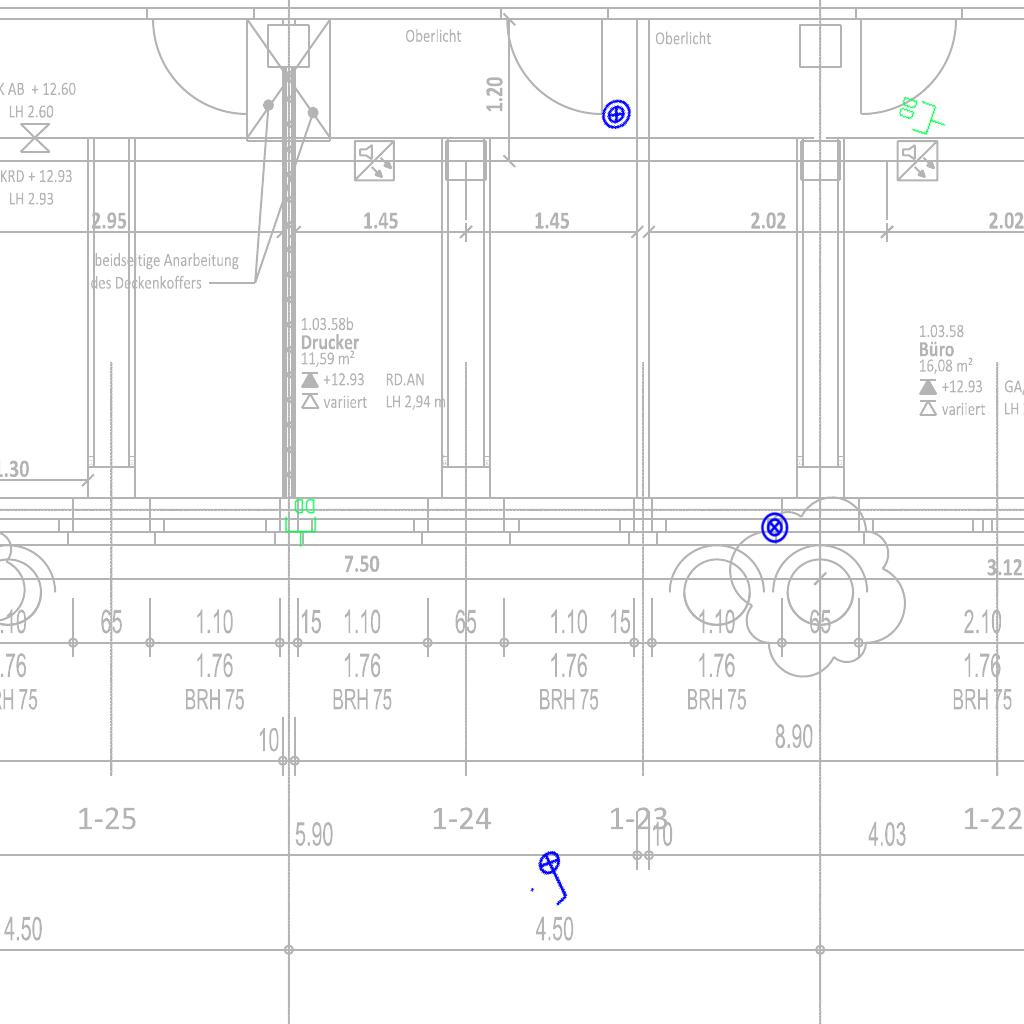Ausschalter_beleuchtet: (520, 840, 592, 914)
Datenanschluss_zweifach: (892, 92, 953, 142), (284, 497, 318, 548)
Taster_beleuchtet: (593, 91, 640, 138), (758, 511, 791, 544)
